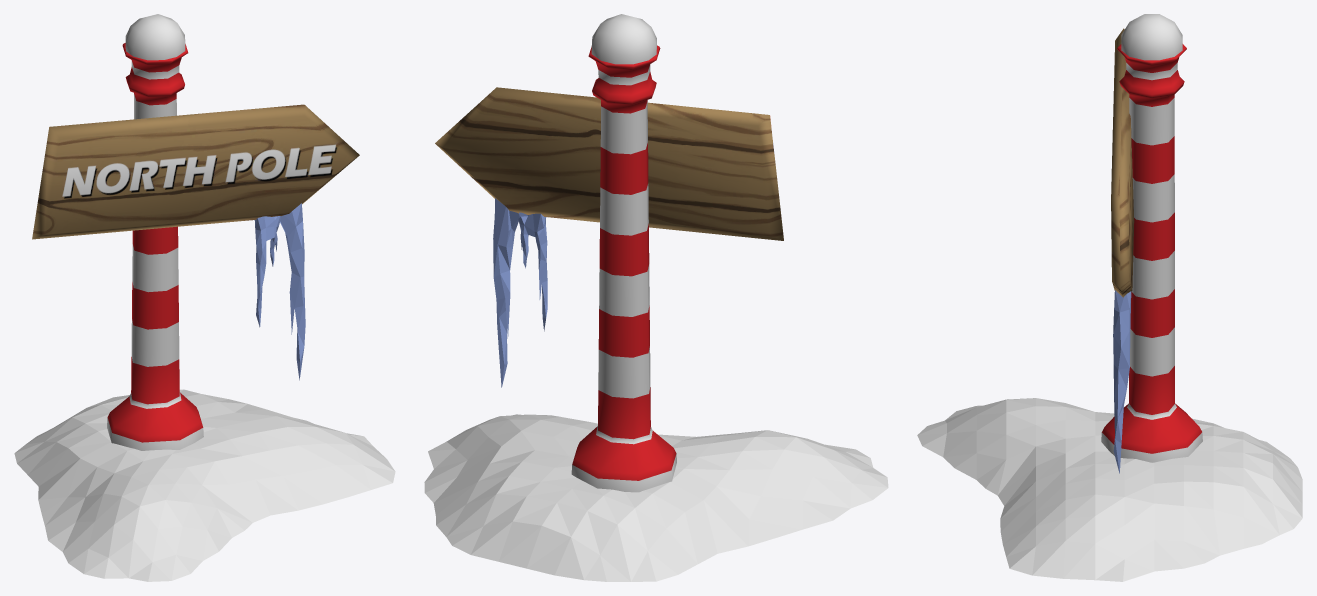
Rendered from northpole_2022.obj.
3 views of the same model, side by side, from view 1: azimuth 30°, elevation 25°; view 2: azimuth 150°, elevation 25°; view 3: azimuth 270°, elevation 25° (orthographic). The views are drawn at different scales.
Parts seen in each view (by area): view 1: 0; view 2: 0; view 3: 0.
Part boxes in pixels (left/top/right/bottom): 0: left=14, top=14, right=395, bottom=581; 0: left=424, top=14, right=888, bottom=581; 0: left=917, top=14, right=1302, bottom=581.
Bounding box in the file's own units: 0.8435 × 1.04 × 0.7791.
